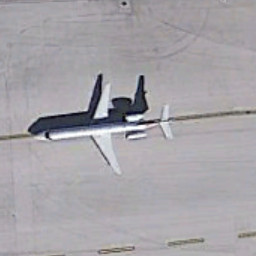Airplane: (21, 70, 194, 188)
